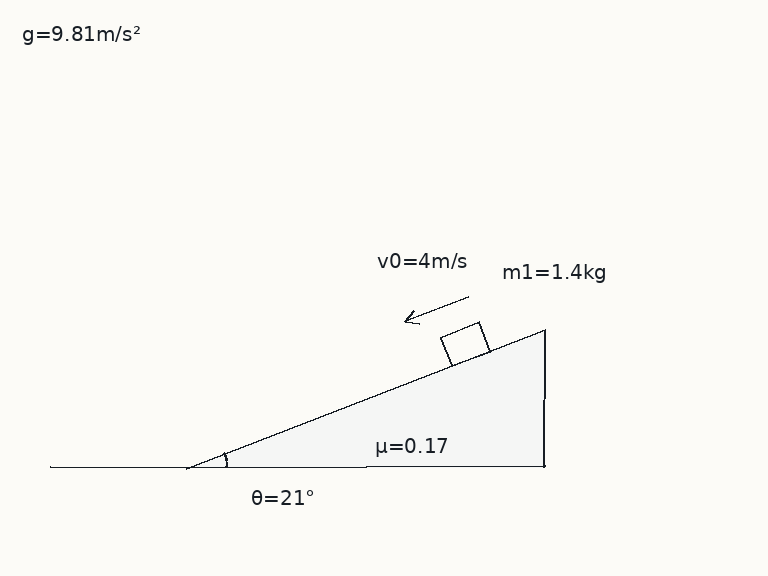block: (438, 320, 492, 368)
ramp: (185, 328, 546, 469)
